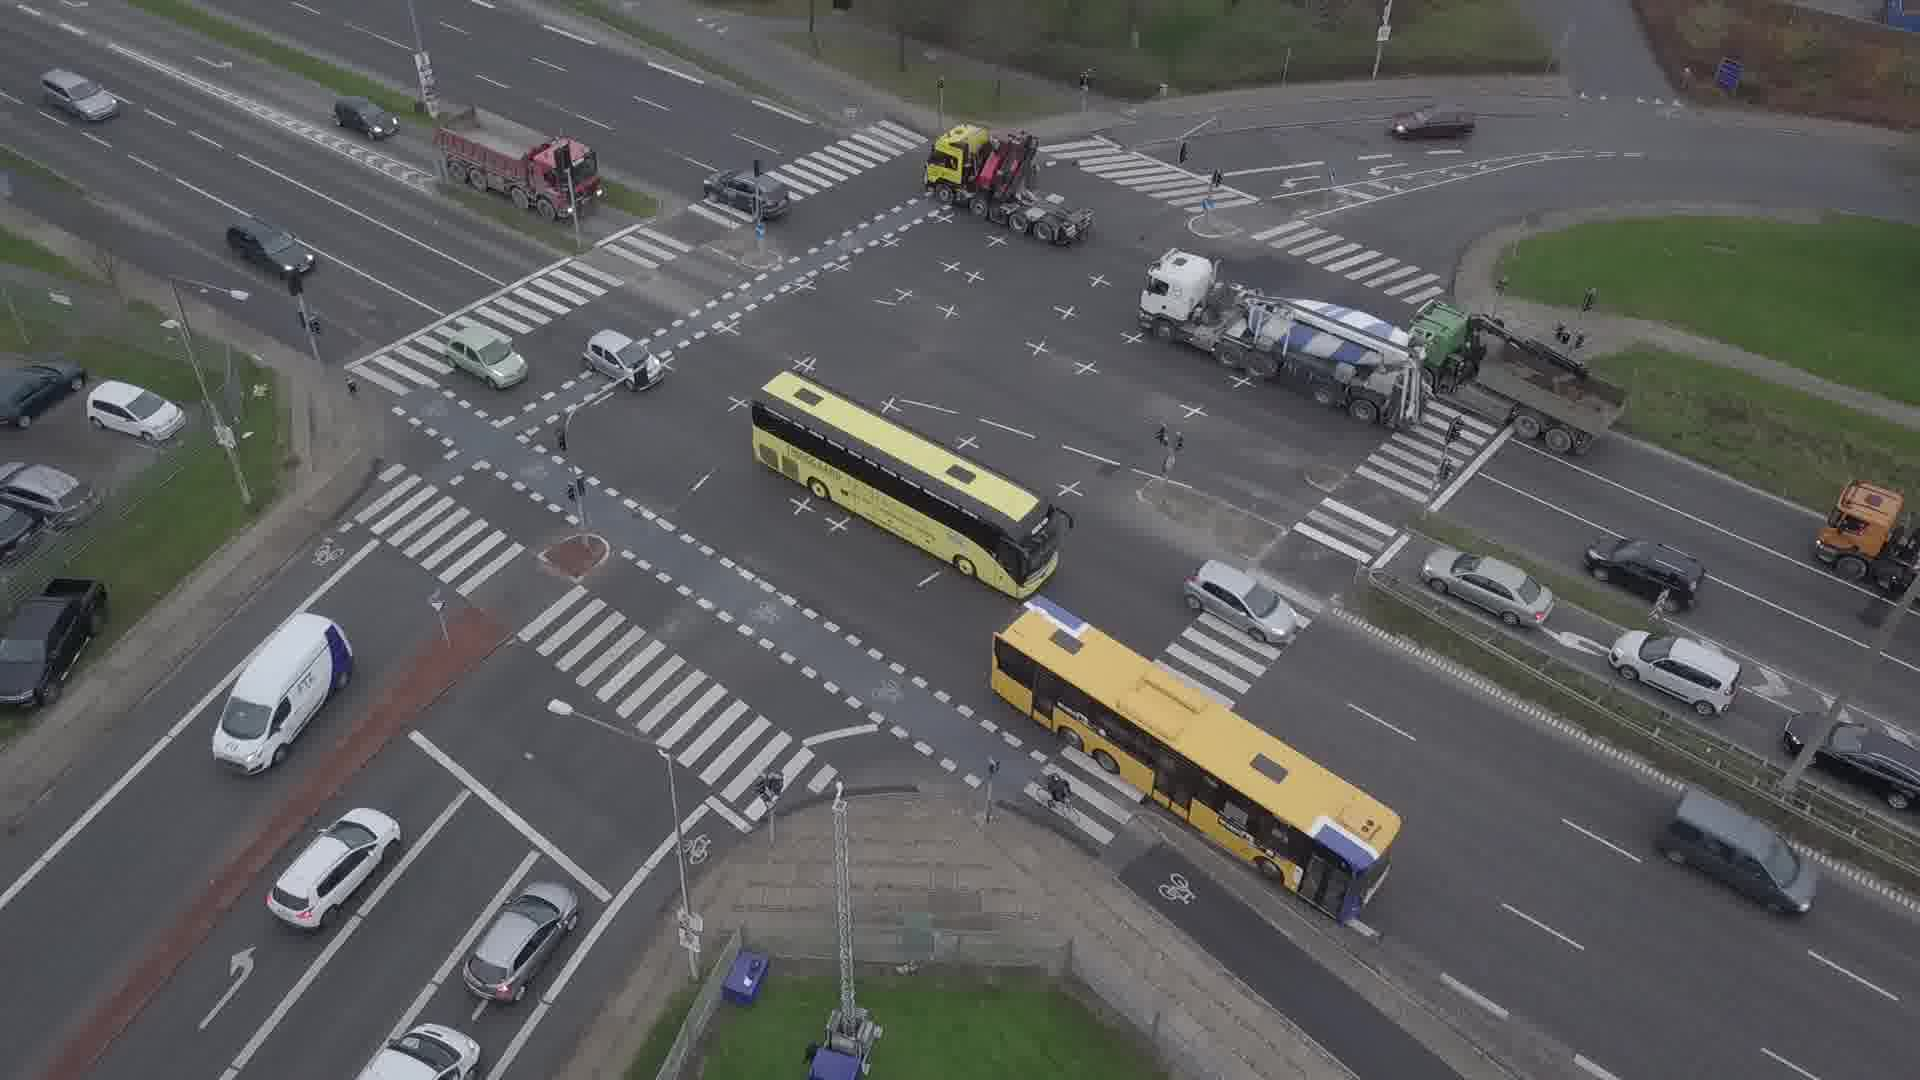bicycle: (1035, 771, 1078, 823)
car: (1664, 787, 1819, 912), (267, 808, 403, 928), (462, 880, 580, 1003), (1784, 712, 1920, 810), (1608, 628, 1743, 717), (1421, 548, 1555, 627), (1583, 535, 1705, 615), (1183, 558, 1298, 642), (226, 216, 315, 276), (445, 326, 529, 388), (581, 330, 663, 390), (703, 168, 791, 221), (38, 69, 117, 122), (333, 94, 399, 141), (1394, 102, 1476, 139)
